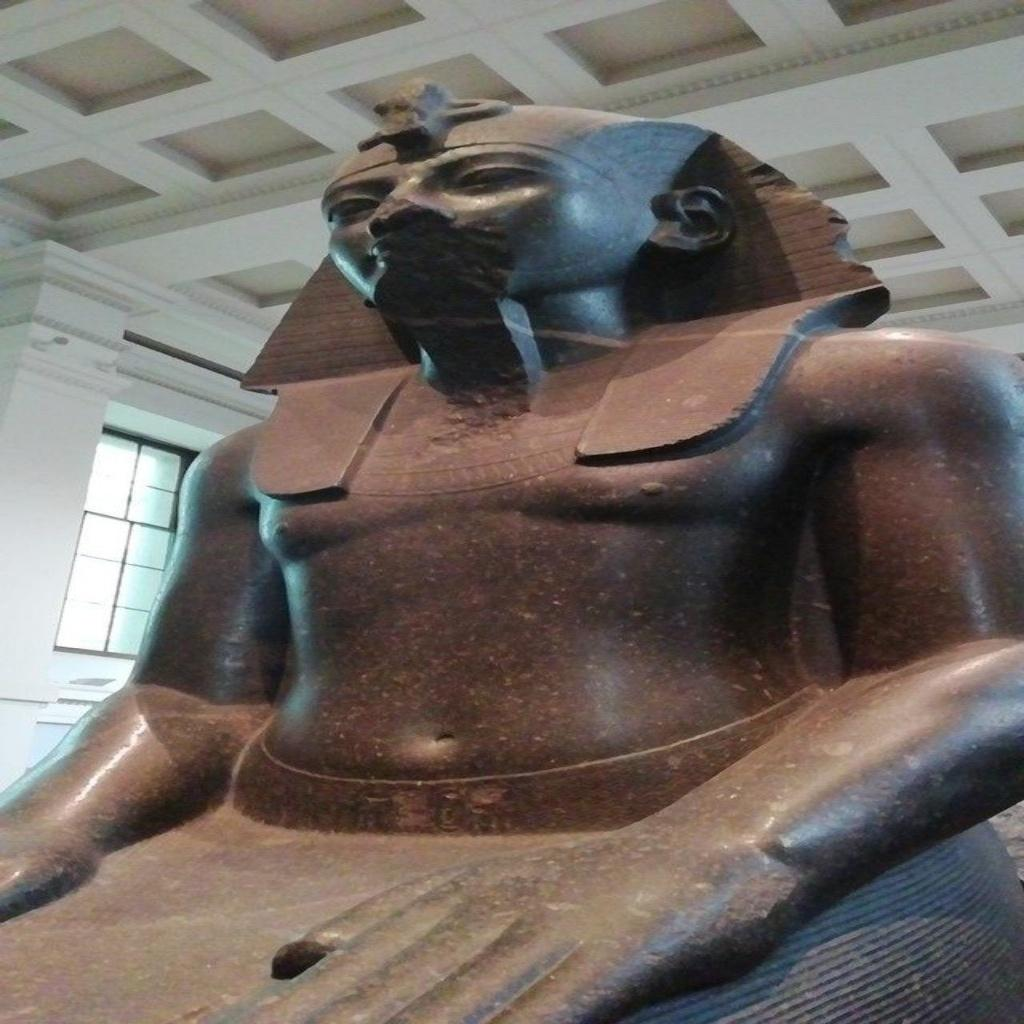Amenhotep III: (6, 83, 1020, 1020)
